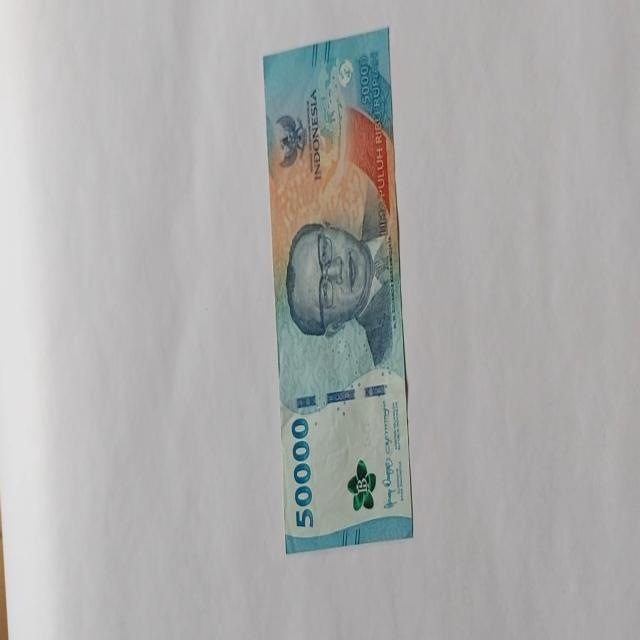lima puluh ribu rupiah: (262, 26, 414, 552)
